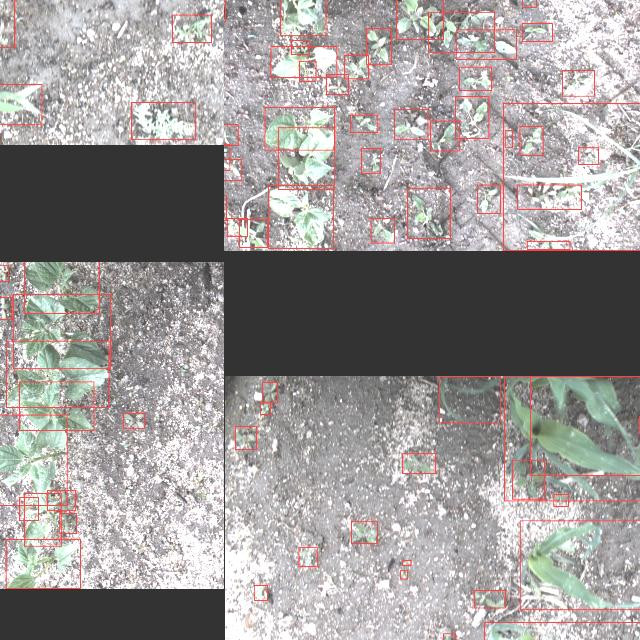crop: (504, 375, 640, 500), (529, 376, 640, 476), (519, 520, 640, 609), (12, 294, 110, 368), (6, 341, 108, 407), (0, 414, 66, 505), (267, 186, 333, 248), (23, 262, 98, 312), (18, 382, 94, 431), (5, 539, 79, 589), (277, 128, 333, 190), (264, 108, 334, 150), (439, 376, 499, 422), (270, 46, 336, 78), (24, 494, 61, 546), (279, 0, 325, 36), (0, 84, 40, 125)
weed: (502, 103, 640, 250), (428, 12, 494, 52), (131, 102, 195, 140), (406, 188, 449, 238), (395, 0, 442, 39), (455, 29, 515, 59), (517, 184, 581, 210), (456, 96, 488, 138), (512, 459, 544, 498), (172, 15, 210, 43), (393, 109, 427, 139), (429, 121, 459, 151), (366, 27, 390, 64), (562, 70, 594, 96), (239, 220, 267, 248), (459, 67, 491, 91), (476, 184, 499, 213), (520, 126, 542, 156), (402, 453, 434, 473), (350, 522, 378, 544), (522, 22, 552, 42), (46, 491, 76, 511), (371, 218, 394, 244), (344, 55, 368, 79), (473, 590, 505, 608), (234, 426, 256, 450), (360, 148, 380, 174), (349, 115, 377, 133), (326, 74, 348, 94), (18, 498, 38, 520), (226, 218, 248, 236), (298, 61, 316, 81), (298, 547, 316, 567), (224, 159, 241, 180), (526, 242, 570, 250), (122, 412, 144, 428), (59, 513, 76, 533), (578, 148, 598, 164), (262, 382, 276, 402), (224, 124, 237, 145), (290, 40, 308, 54), (0, 297, 11, 319), (552, 494, 568, 506), (254, 586, 266, 600), (504, 130, 512, 148), (0, 265, 8, 280), (260, 402, 270, 414), (522, 0, 536, 7), (443, 633, 455, 640), (399, 571, 407, 579), (402, 560, 410, 566)
